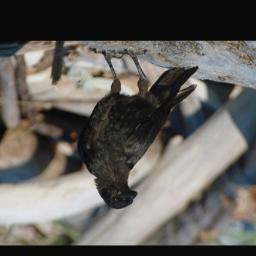Crow: (75, 47, 200, 211)
